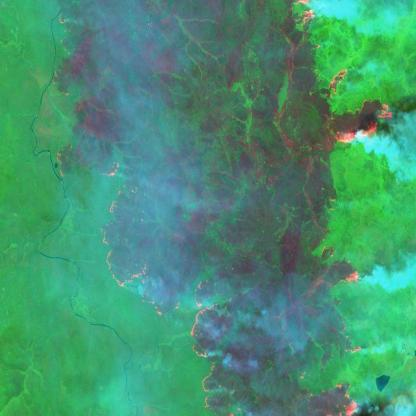fire: (290, 0, 392, 416), (98, 158, 166, 316), (188, 275, 239, 416)
